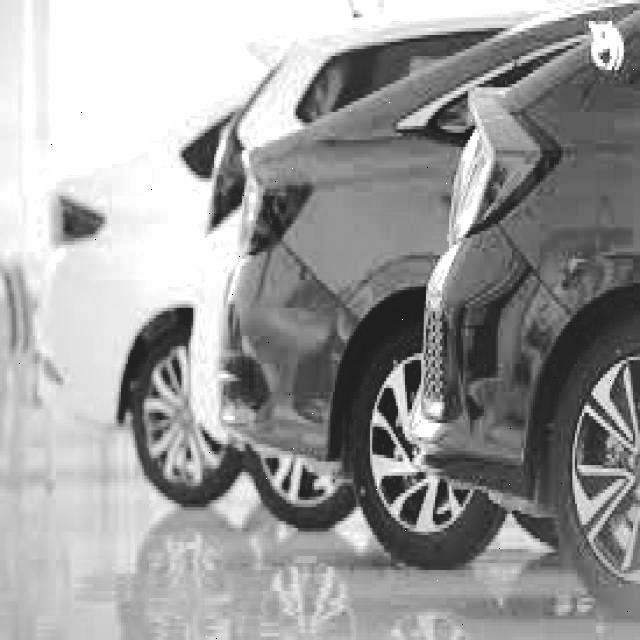Car: (57, 5, 640, 628)
